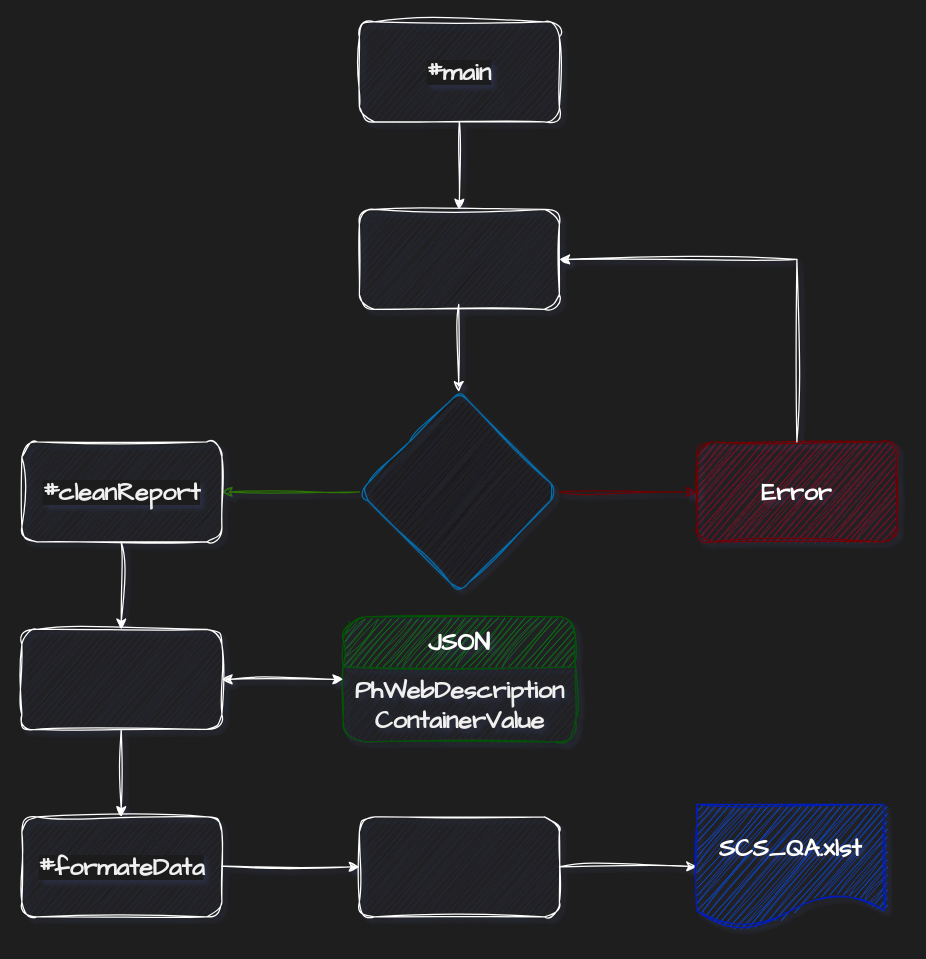
The diagram is 926 pixels wide and 959 high, and some of its shapes have lost their labels. The centre of each missing label's shape, as x and y in pixels:
"#allowed_file" goes at point 458,491.
"#createPlot" goes at point 458,866.
"#processData" goes at point 121,678.
"#upload_file" goes at point 458,258.
